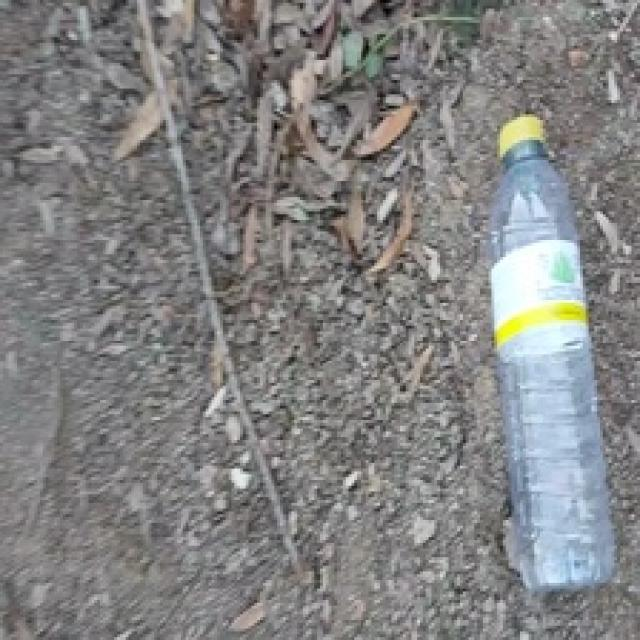garbage: (414, 105, 640, 618)
